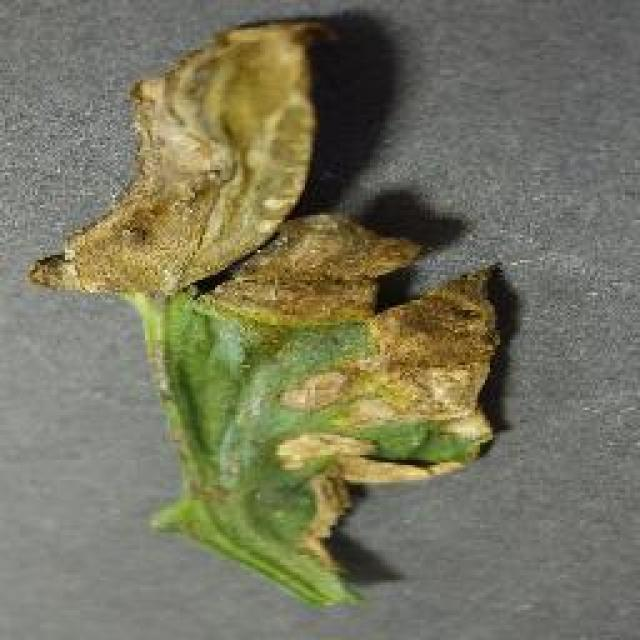Tomato bacterial spot leaf: (56, 40, 514, 622)
